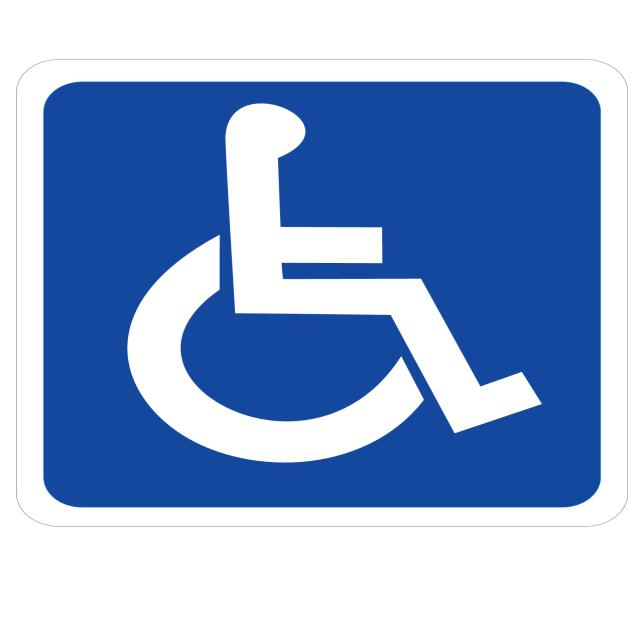symbol_of_access: (117, 98, 555, 475)
